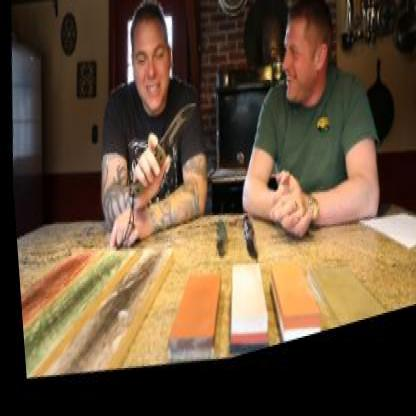knife: (135, 94, 201, 198)
